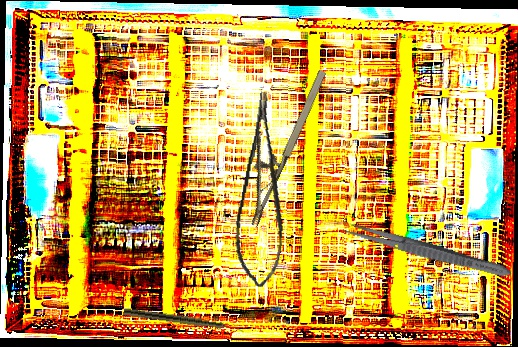Dressing Forceps: (338, 219, 515, 282)
Handpiece: (122, 307, 246, 334)
Micro Scissor: (226, 90, 305, 291)
Needle Holder: (220, 57, 331, 228)
